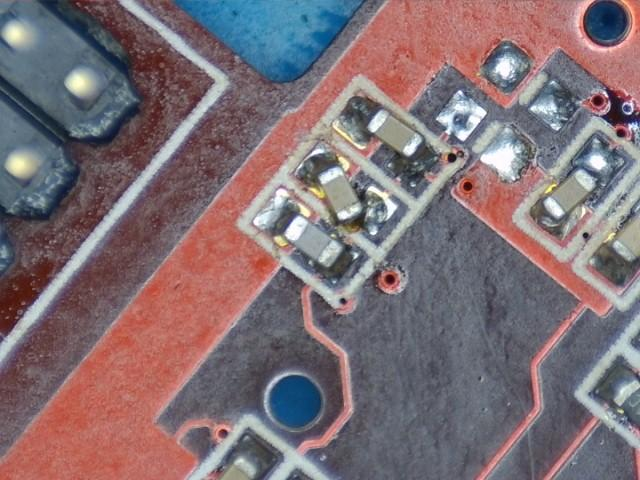Incorrect_installation: (333, 90, 440, 189), (293, 142, 398, 236), (532, 138, 627, 240)
